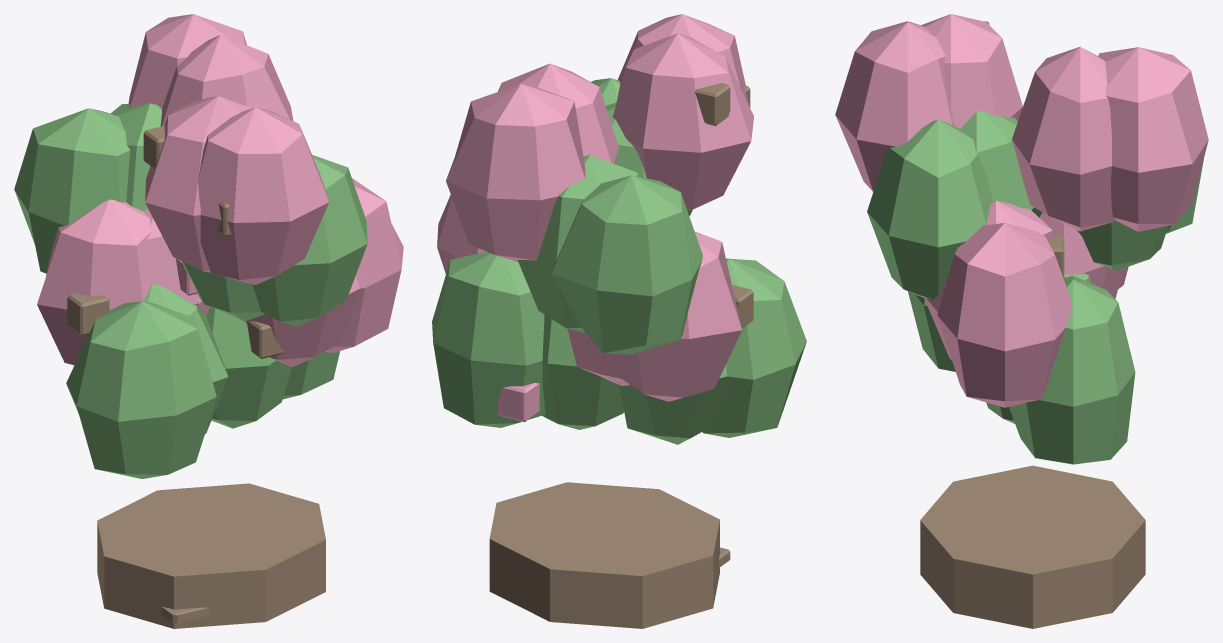
The model's file is b08_purple_coneflowers.glb.
3 renders of one model, left to right at view 1: azimuth 30°, elevation 25°; view 2: azimuth 150°, elevation 25°; view 3: azimuth 270°, elevation 25°, orthographic. The views are drawn at different scales.
Parts seen in each view (by area): view 1: b08_purple_coneflowers; view 2: b08_purple_coneflowers; view 3: b08_purple_coneflowers.
Part boxes in pixels (left/top/right/bottom): b08_purple_coneflowers: left=14, top=14, right=403, bottom=628; b08_purple_coneflowers: left=432, top=14, right=806, bottom=628; b08_purple_coneflowers: left=835, top=14, right=1208, bottom=628.
Bounding box in the file's own units: 0.648 × 0.951 × 0.592.
